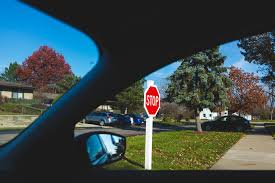stop sign: (143, 84, 161, 117)
